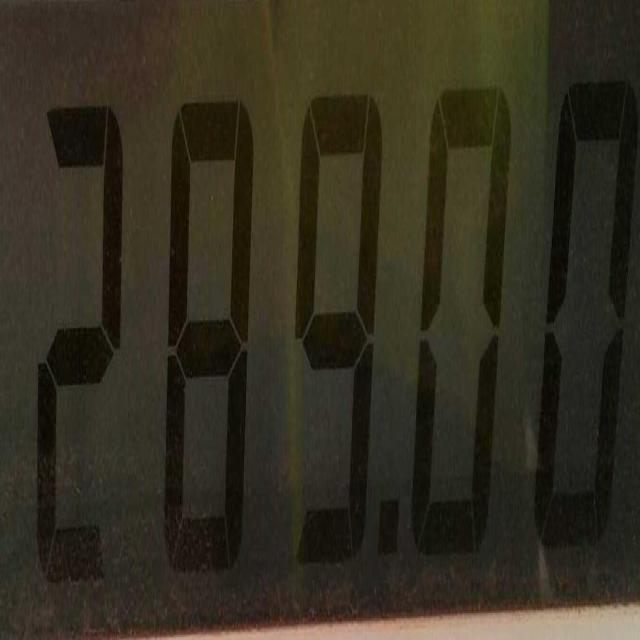.: (377, 492, 400, 568)
0: (527, 66, 640, 570), (409, 66, 518, 575)
2: (23, 74, 135, 611)
8: (152, 72, 262, 595)
9: (280, 74, 386, 597)
